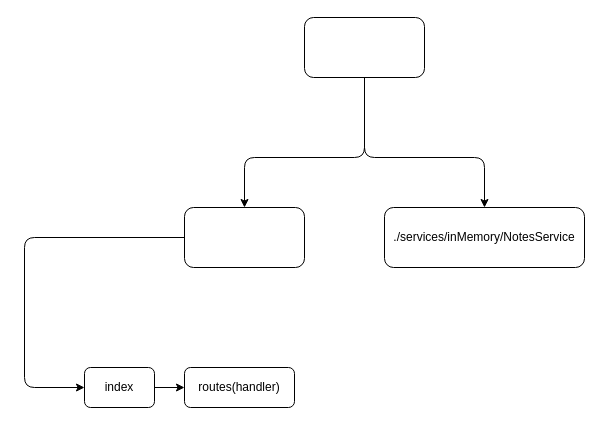
Some shapes in this 602 by 425 pixel diagram are drawn without their labels. The centre of each missing label's shape, as x and y in pixels:
"./api/notes" goes at [244,237].
"./server" goes at [364,47].
